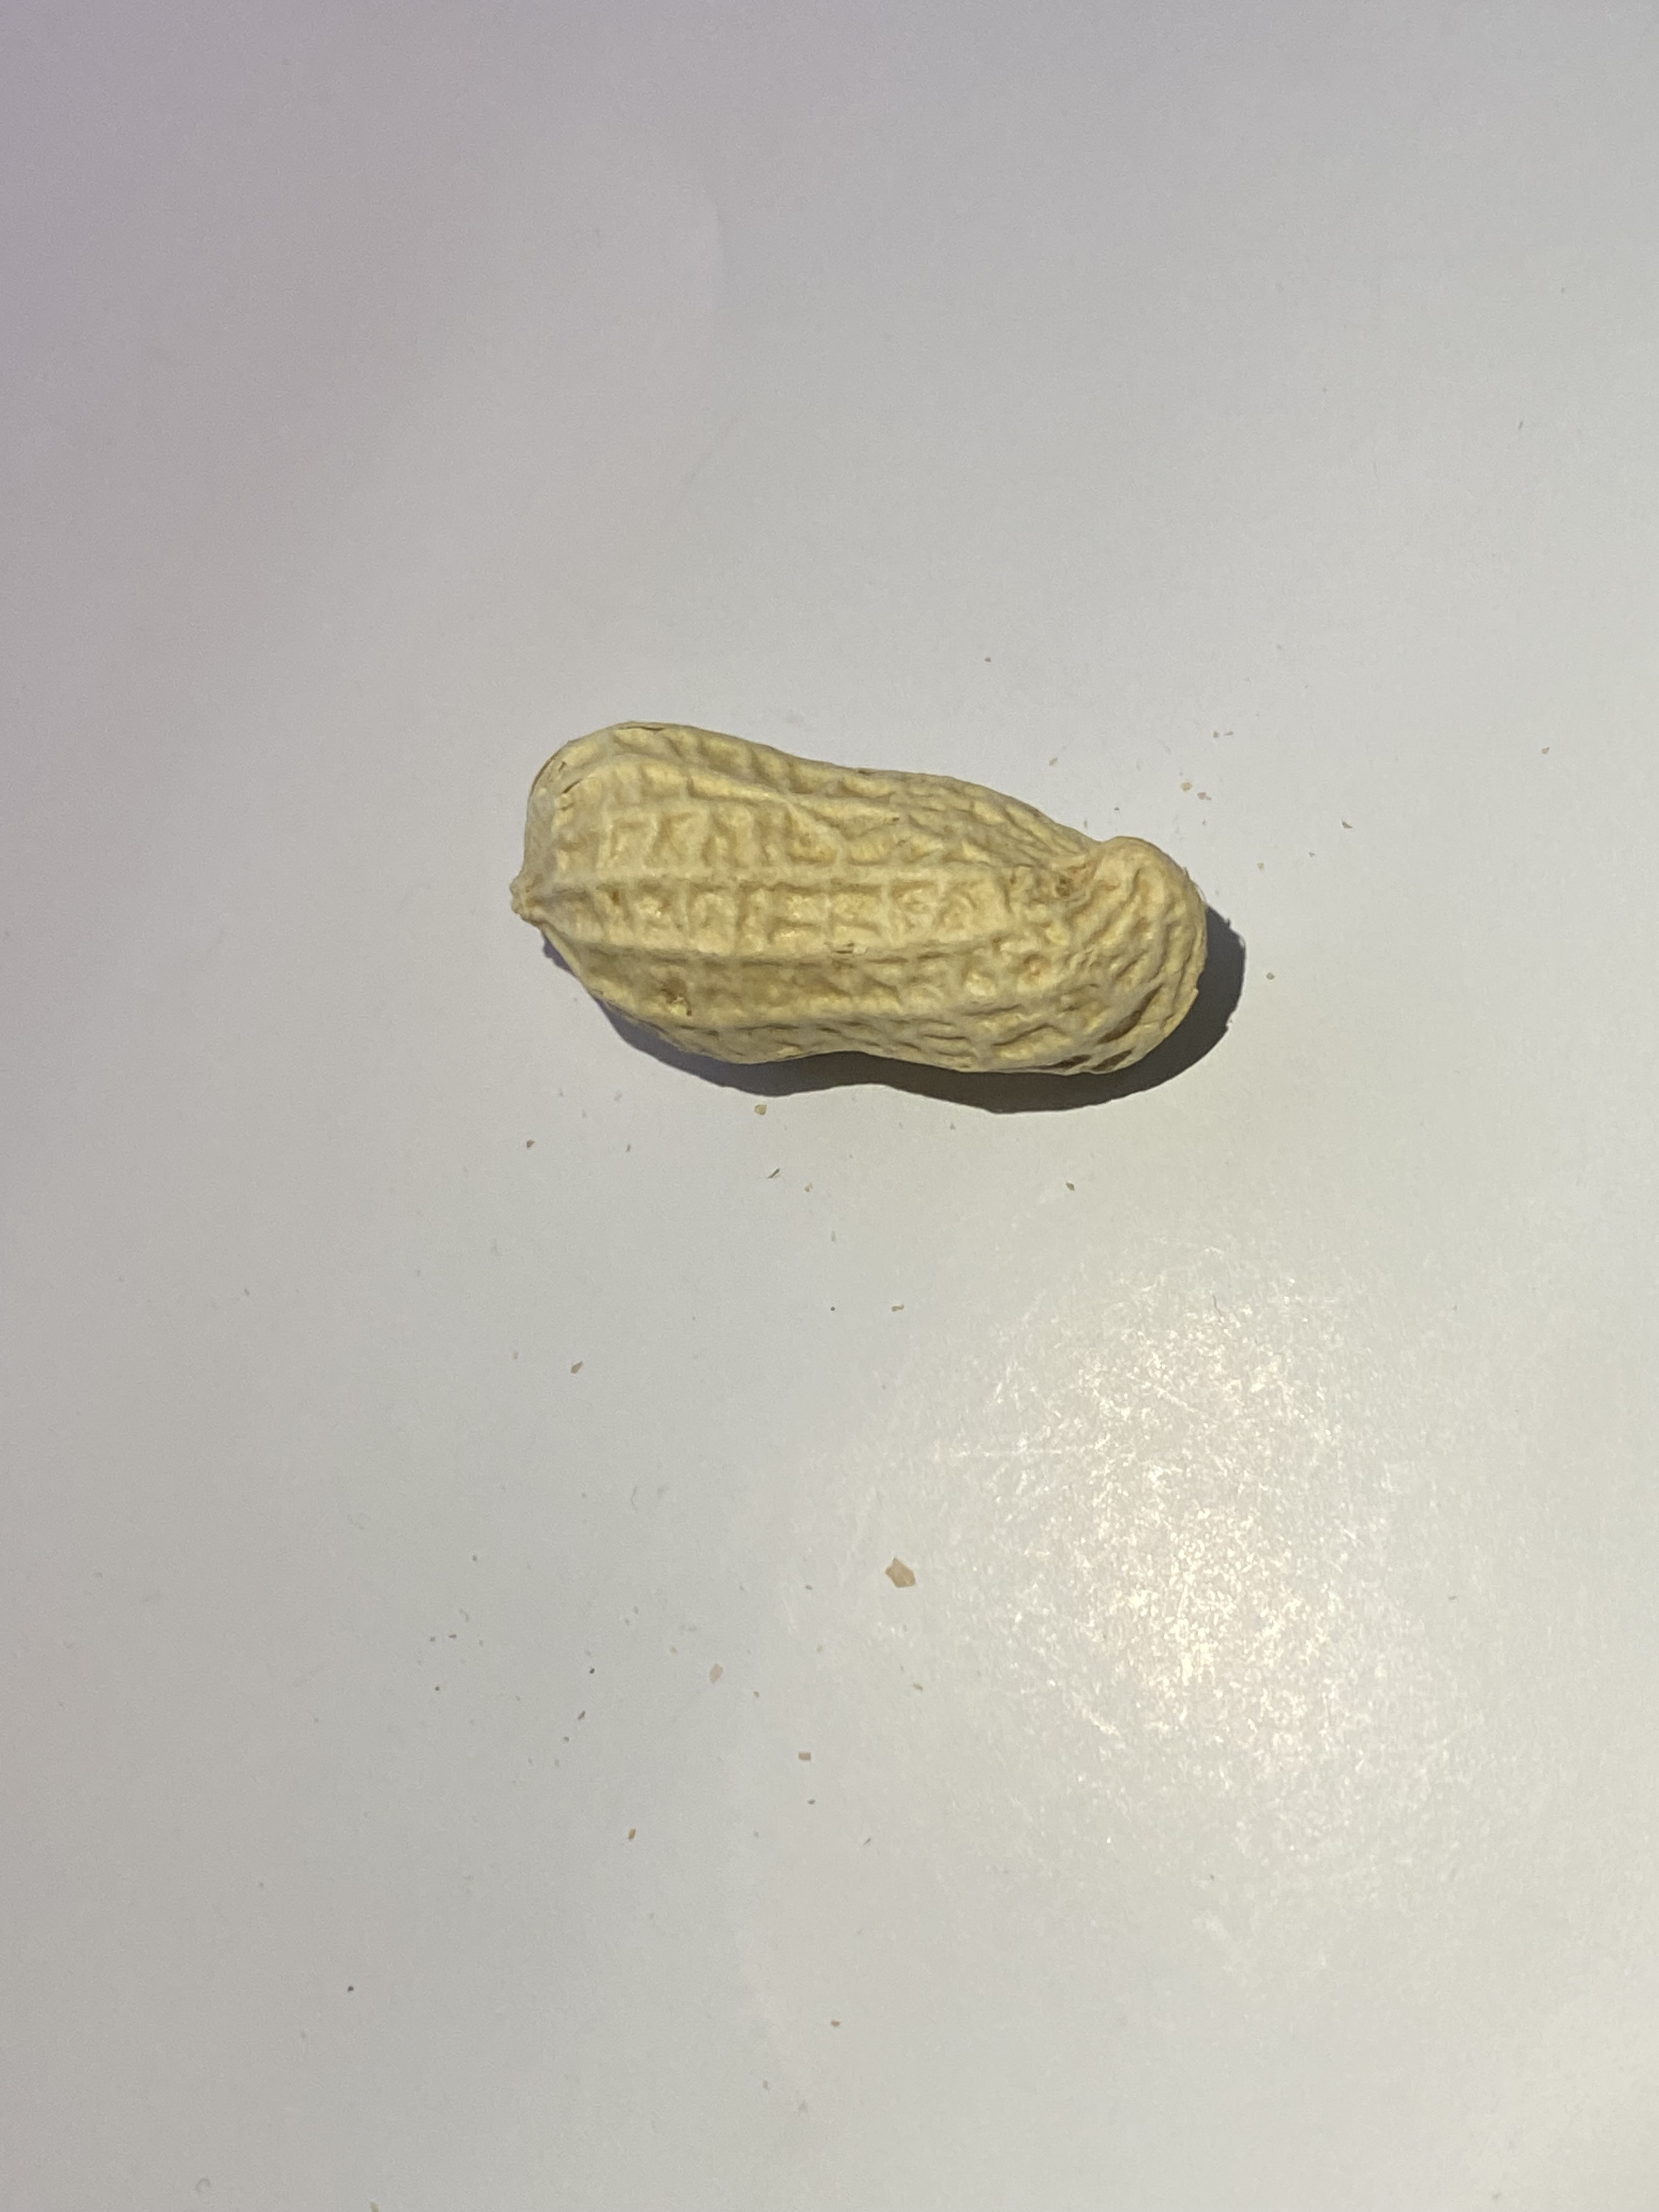kacang2: (464, 664, 1284, 1109)
